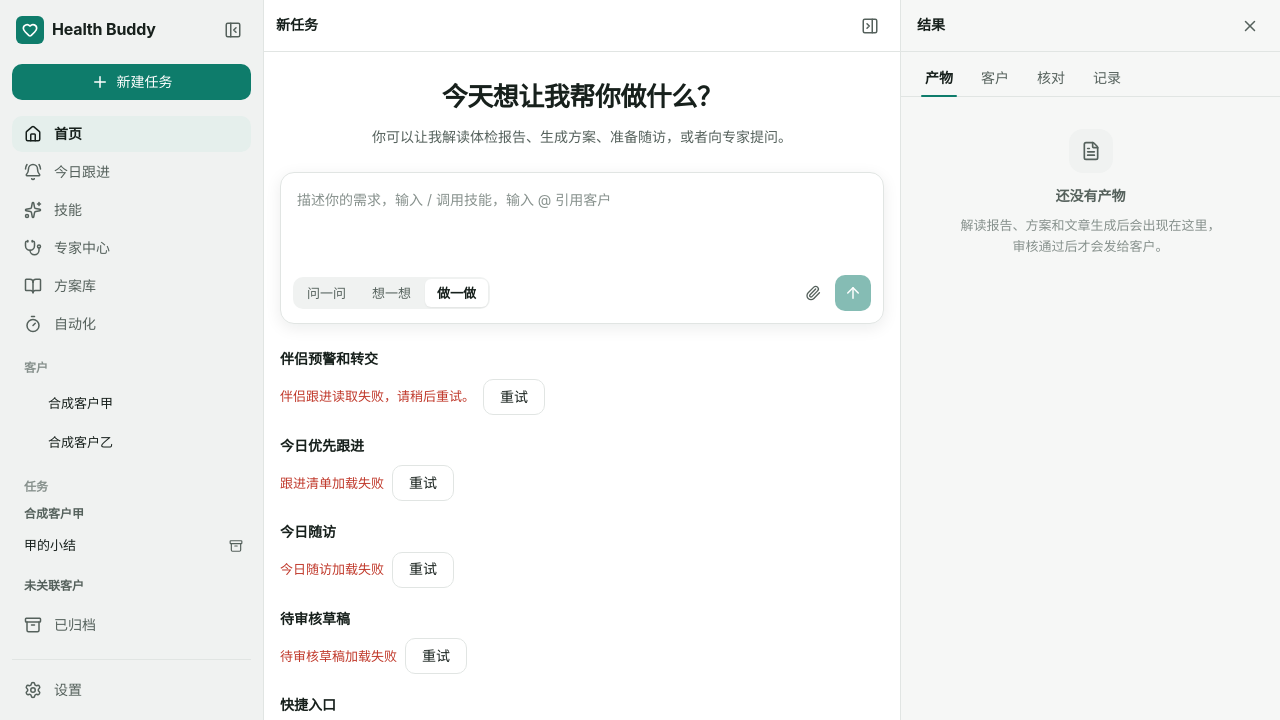
AppShell (wide screen) › switches tasks and shows the task title
Click the button "甲的小结".
click(114, 546)  # box x1=12 y1=527 x2=217 y2=564
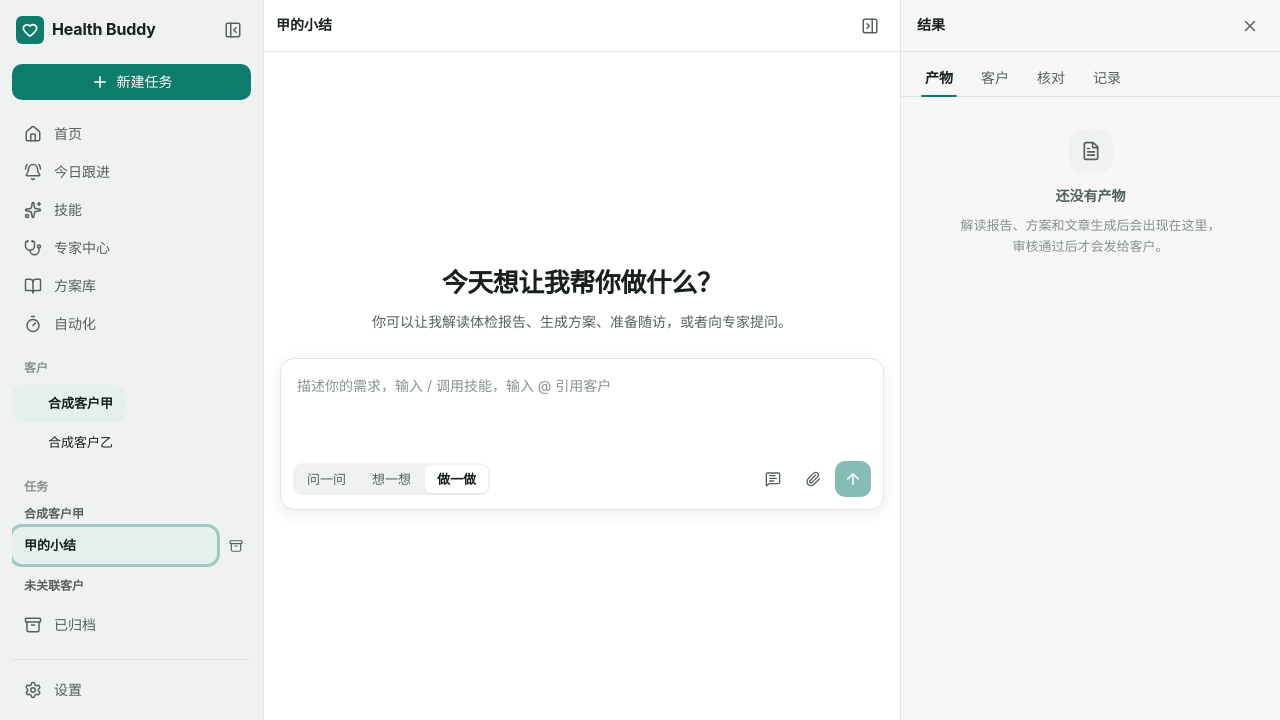
Expected: the heading "甲的小结" is shown, x1=276 y1=16 x2=332 y2=33
Click the button "新建任务".
click(132, 82)  # box x1=12 y1=64 x2=251 y2=100
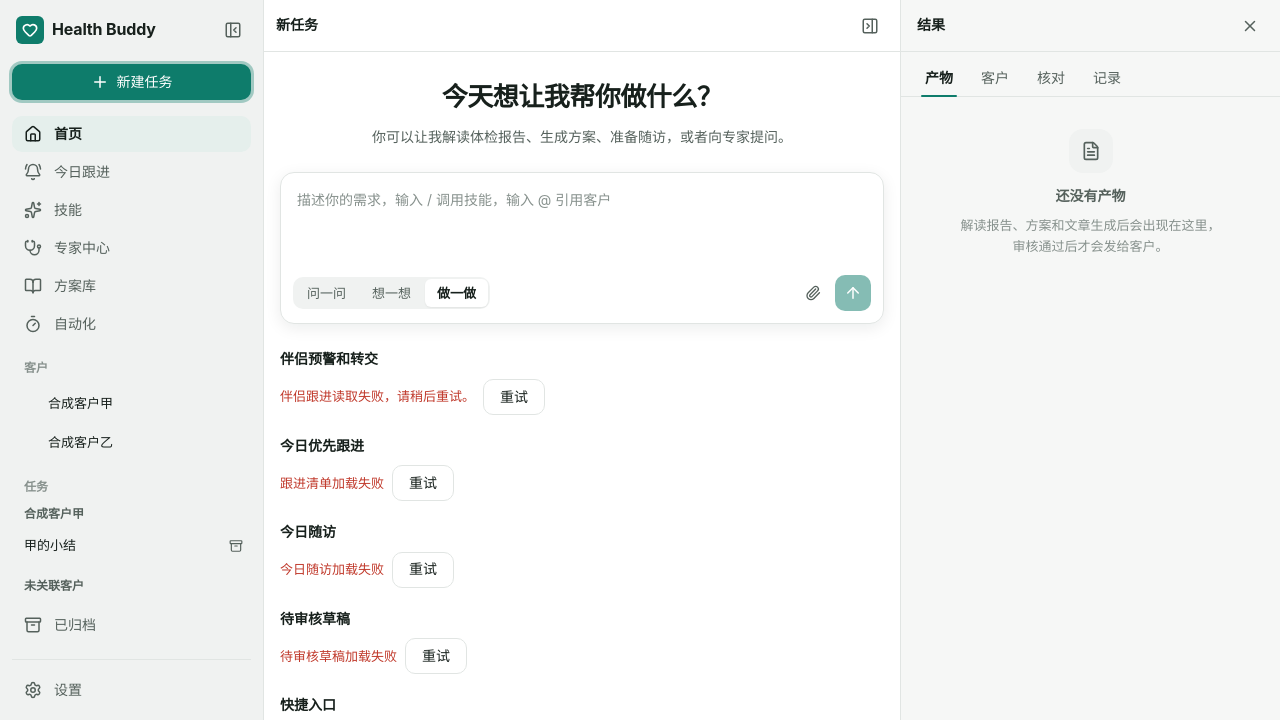
Expected: the text "今天想让我帮你做什么？" is shown, x1=442 y1=81 x2=722 y2=112
Expected: the heading "新任务" is shown, x1=276 y1=16 x2=318 y2=33
